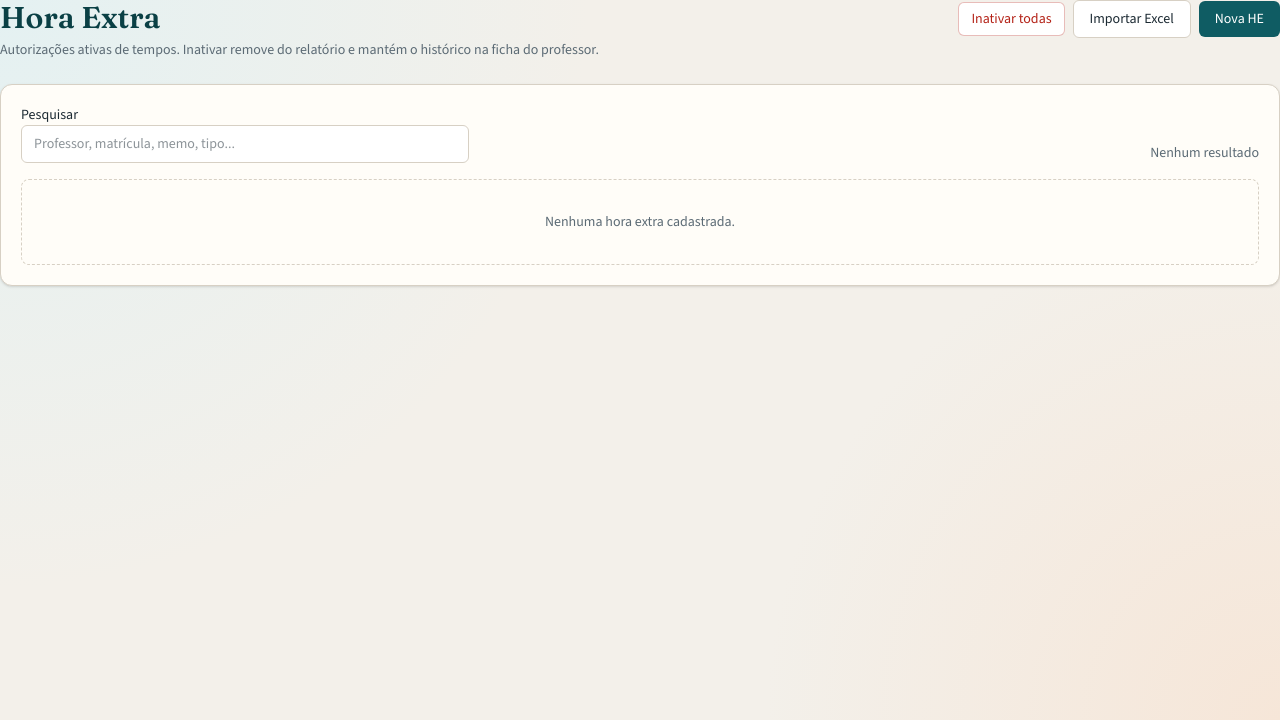
Tela: Hora Extra › abre o modal de nova HE
The width and height of the screenshot is (1280, 720).
Click the button "Nova HE": point(1239, 19) [1199, 1, 1279, 37]
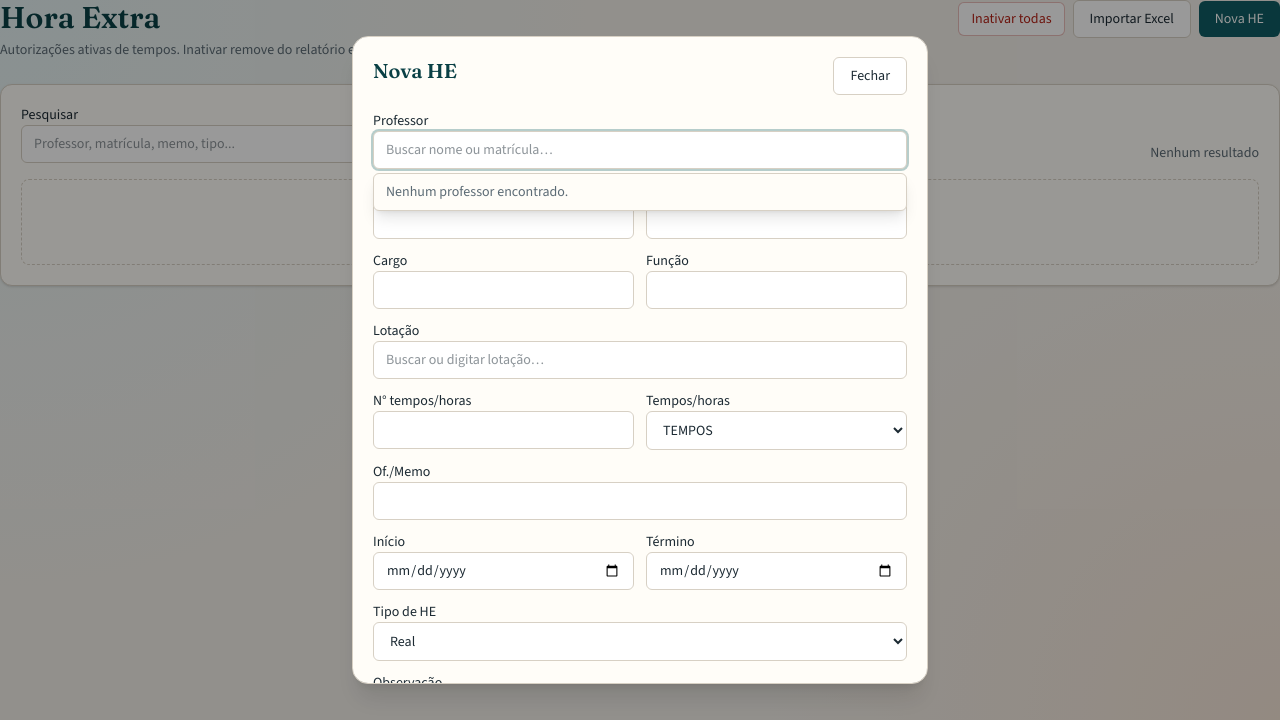
expect the dialog "Nova HE" is shown: met, box [352, 36, 928, 684]
